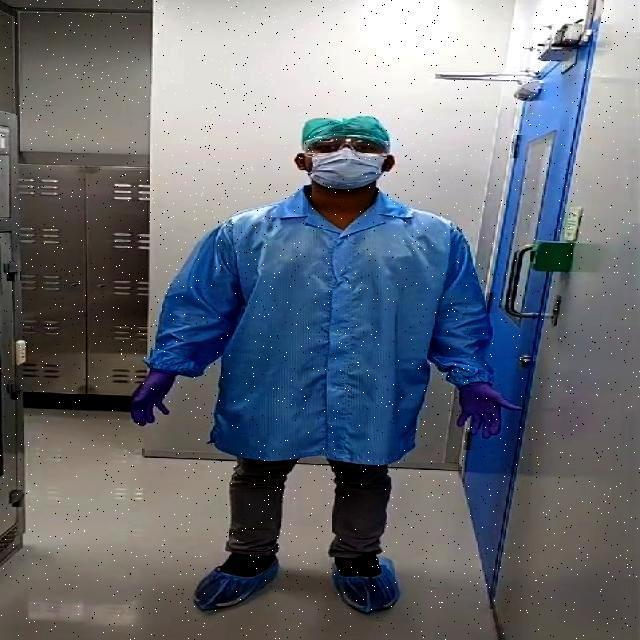apron: (450, 379, 530, 440), (118, 370, 190, 429)
